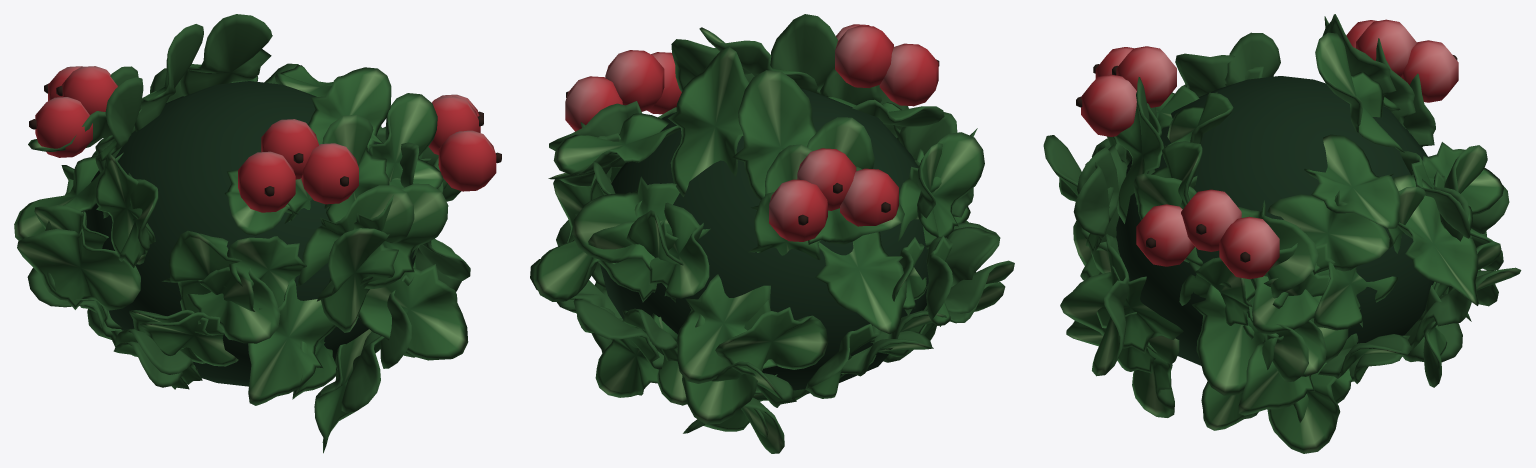
File: Xmas_Holly.fbx
3 renders of one model, left to right at view 1: azimuth 30°, elevation 25°; view 2: azimuth 150°, elevation 25°; view 3: azimuth 270°, elevation 25°, orthographic. The views are drawn at different scales.
Parts seen in each view (by area): view 1: Xmas_Holly; view 2: Xmas_Holly; view 3: Xmas_Holly.
Part boxes in pixels (box(x1,y1,x2,y2)): Xmas_Holly: box(14, 14, 501, 453); Xmas_Holly: box(530, 14, 1014, 453); Xmas_Holly: box(1043, 14, 1521, 453).
Bounding box in the file's own units: 6.49 × 5.58 × 6.3.
